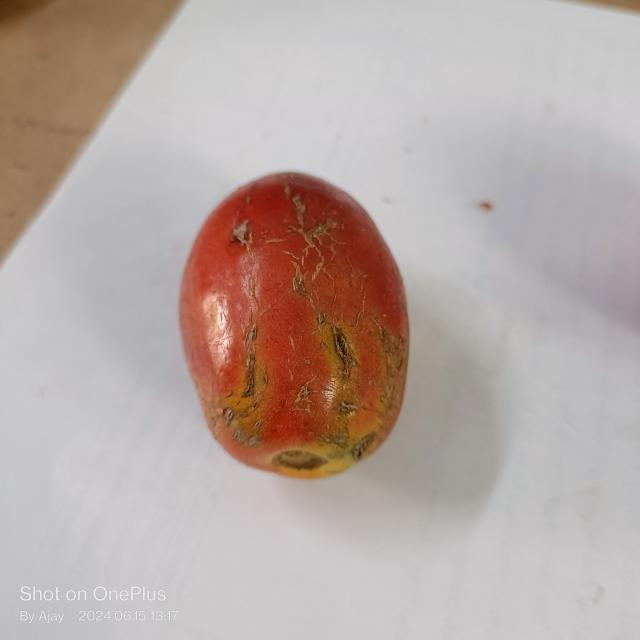Bacterial_Spot: (244, 323, 258, 398), (334, 323, 353, 378), (292, 377, 320, 402), (230, 220, 251, 247), (290, 261, 306, 295), (338, 400, 356, 414), (316, 309, 328, 326), (224, 407, 235, 425)
